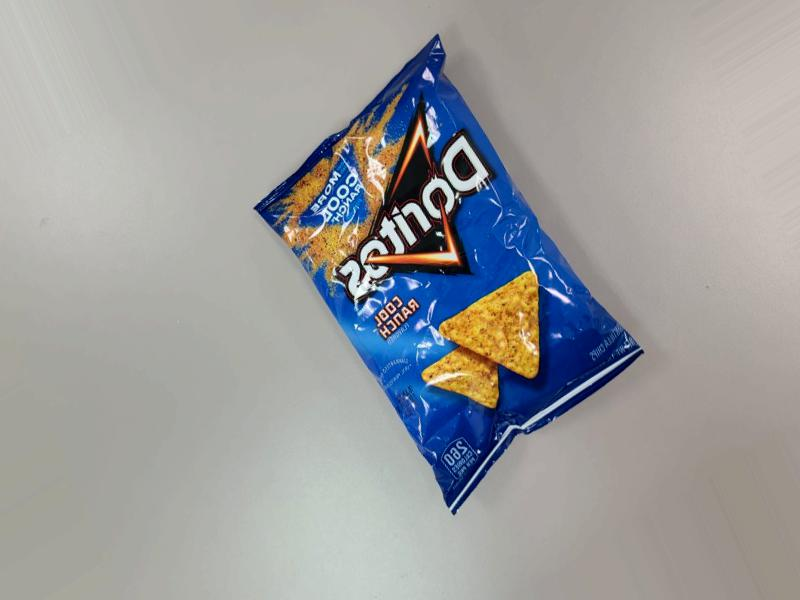doritos: (367, 84, 662, 538)
